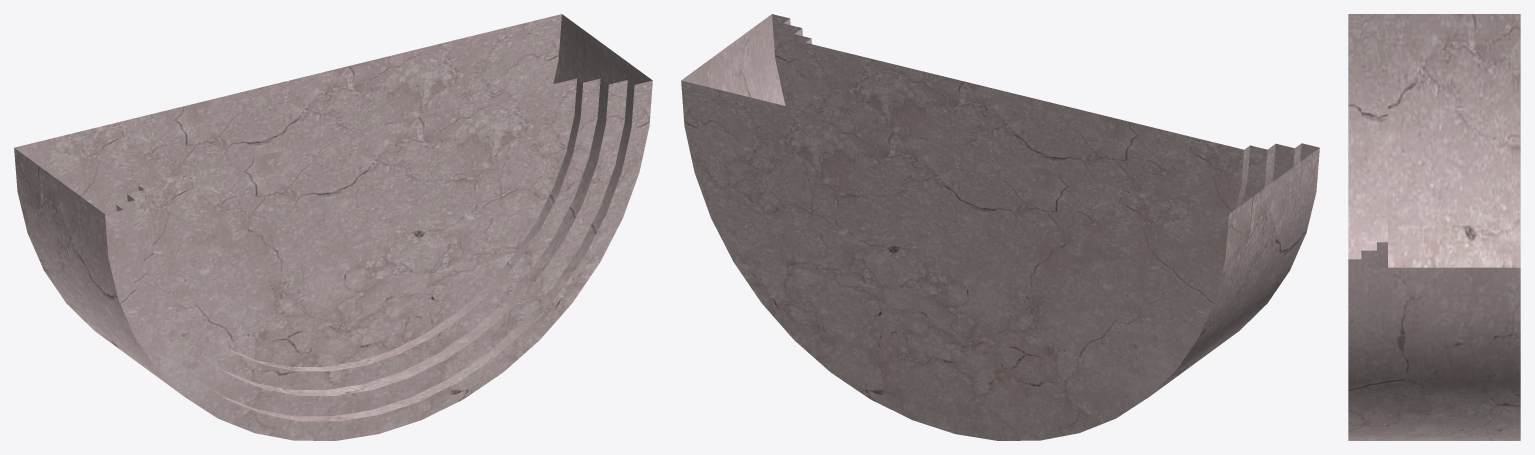
The model's file is pasted__marble_tiles_pink_123.fbx.
3 renders of one model, left to right at view 1: azimuth 30°, elevation 25°; view 2: azimuth 150°, elevation 25°; view 3: azimuth 270°, elevation 25°, orthographic. The views are drawn at different scales.
Parts seen in each view (by area): view 1: pasted__Node_1451; view 2: pasted__Node_1451; view 3: pasted__Node_1451.
Part boxes in pixels (<box>): pasted__Node_1451: <box>14,14,652,440</box>; pasted__Node_1451: <box>681,14,1319,440</box>; pasted__Node_1451: <box>1348,14,1520,440</box>.
Bounding box in the file's own units: 32.75 × 9.41 × 16.37.
